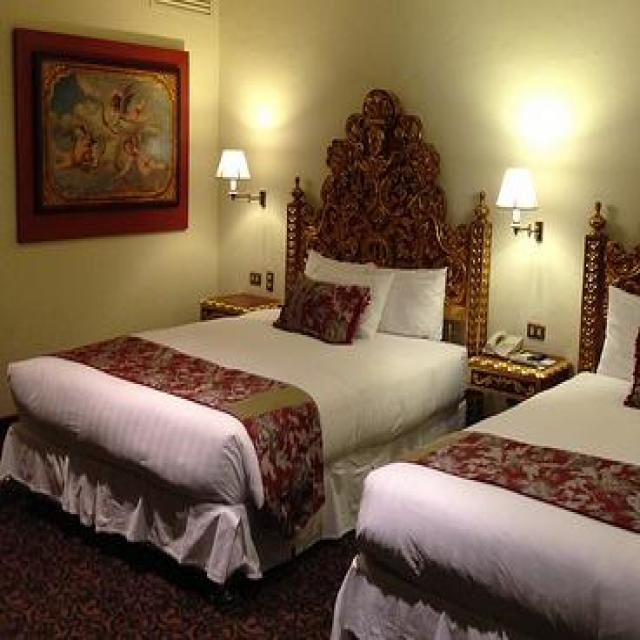bed: (4, 84, 494, 584)
